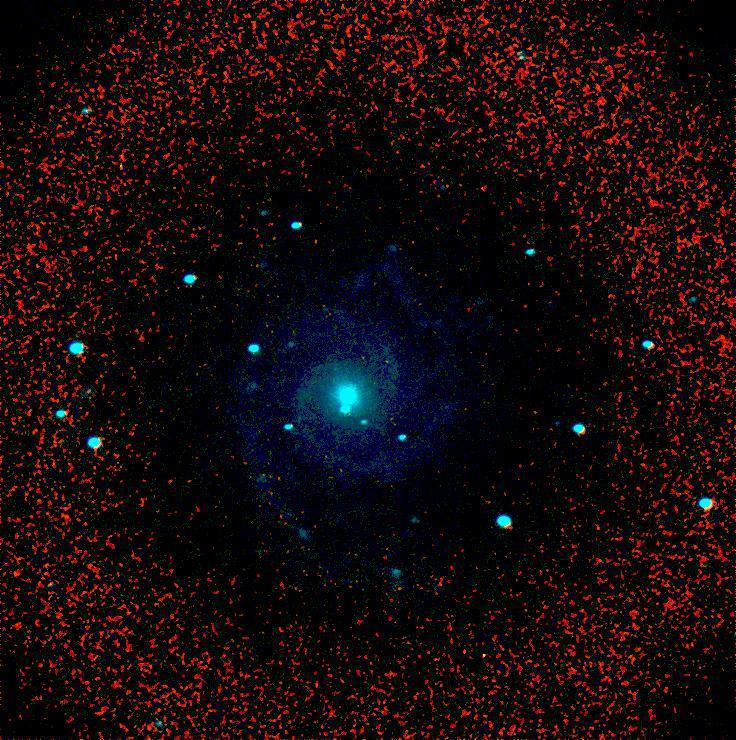star: (512, 292, 542, 322)
